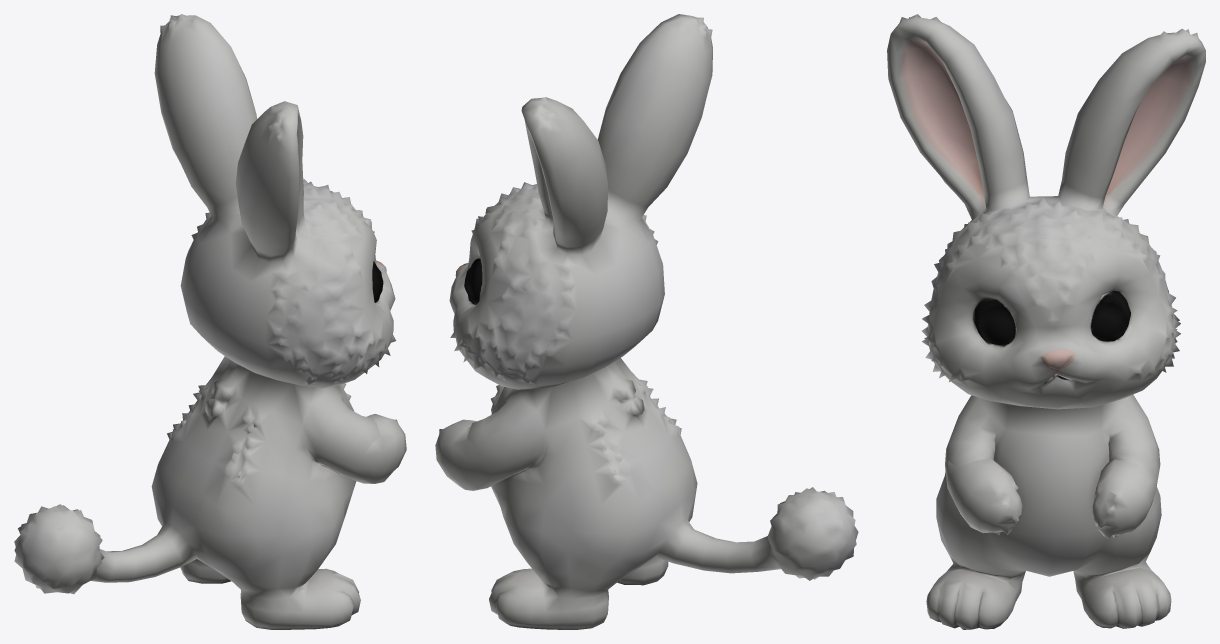
3 renders of one model, left to right at view 1: azimuth 30°, elevation 25°; view 2: azimuth 150°, elevation 25°; view 3: azimuth 270°, elevation 25°, orthographic. The views are drawn at different scales.
Visible parts, largest first — view 1: tripo_node_e49ae3a7-87e3-45d3-97f3-e4d148fc9793; view 2: tripo_node_e49ae3a7-87e3-45d3-97f3-e4d148fc9793; view 3: tripo_node_e49ae3a7-87e3-45d3-97f3-e4d148fc9793.
Part boxes in pixels (box(x1,y1,x2,y2)): tripo_node_e49ae3a7-87e3-45d3-97f3-e4d148fc9793: box(14, 14, 406, 629); tripo_node_e49ae3a7-87e3-45d3-97f3-e4d148fc9793: box(435, 14, 858, 629); tripo_node_e49ae3a7-87e3-45d3-97f3-e4d148fc9793: box(887, 14, 1205, 629).
Bounding box in the file's own units: 0.7324 × 0.998 × 0.5059.
1 material, 1 textured.
